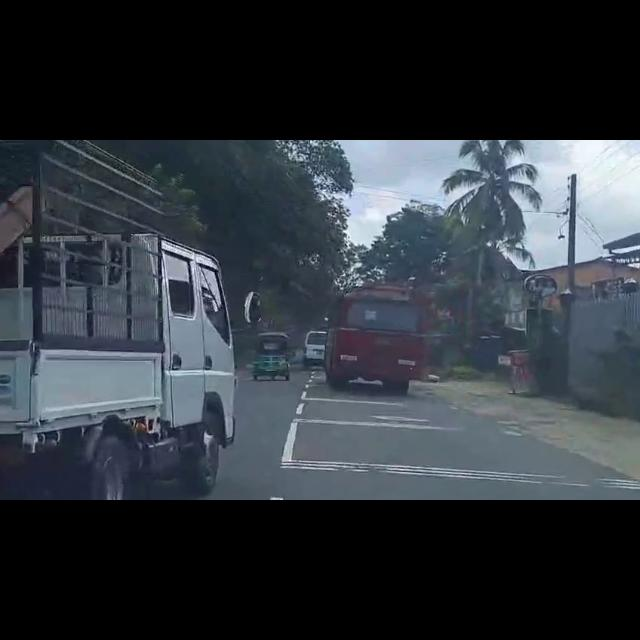broken_line: (270, 381, 320, 483)
bus: (338, 290, 417, 390)
car: (306, 331, 326, 365)
three_wheeler: (258, 334, 290, 380)
truck: (44, 234, 222, 461)
